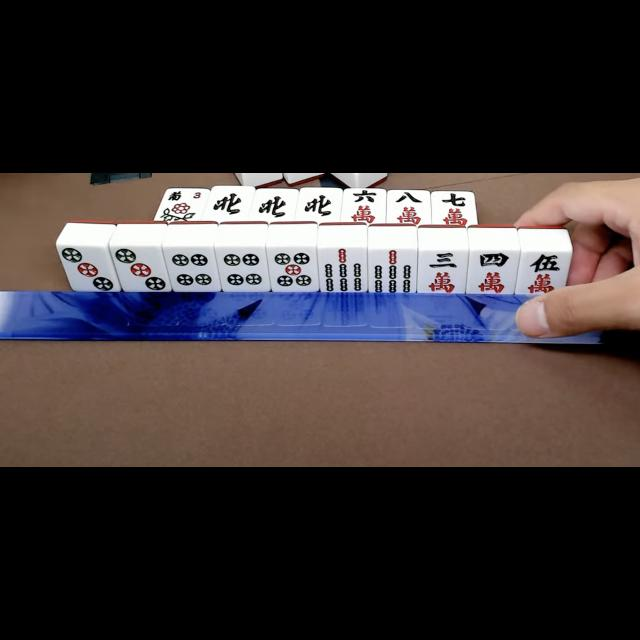b7: (319, 246, 367, 292), (369, 248, 417, 294)
c3: (418, 250, 466, 294)
c4: (469, 250, 516, 298)
c5: (518, 251, 570, 297)
c6: (342, 188, 384, 222)
c7: (432, 192, 474, 226)
c8: (388, 191, 430, 225)
d3: (59, 244, 114, 292), (112, 246, 168, 290)
d4: (166, 247, 218, 291), (218, 247, 268, 291)
d5: (270, 246, 316, 292)
f3: (162, 188, 206, 205)
wn: (252, 188, 296, 222), (208, 187, 250, 220), (298, 189, 340, 221)
